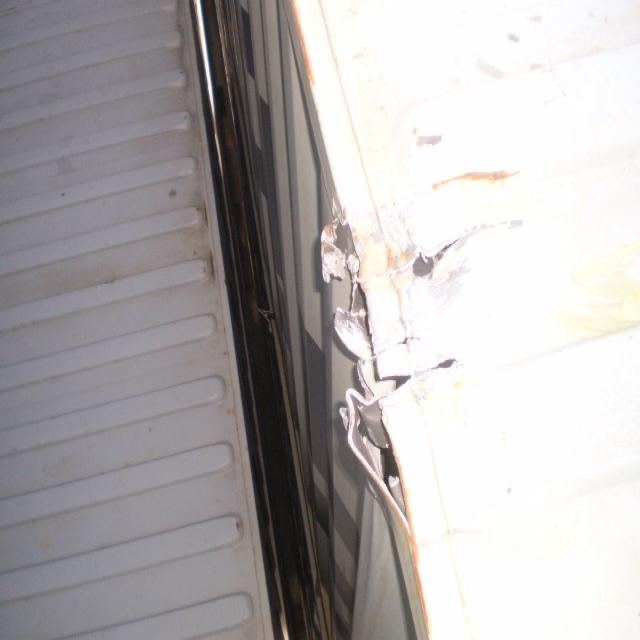hole: (405, 211, 549, 287), (349, 401, 423, 540), (356, 348, 470, 395), (318, 191, 368, 293), (348, 265, 382, 361), (408, 126, 450, 154)
